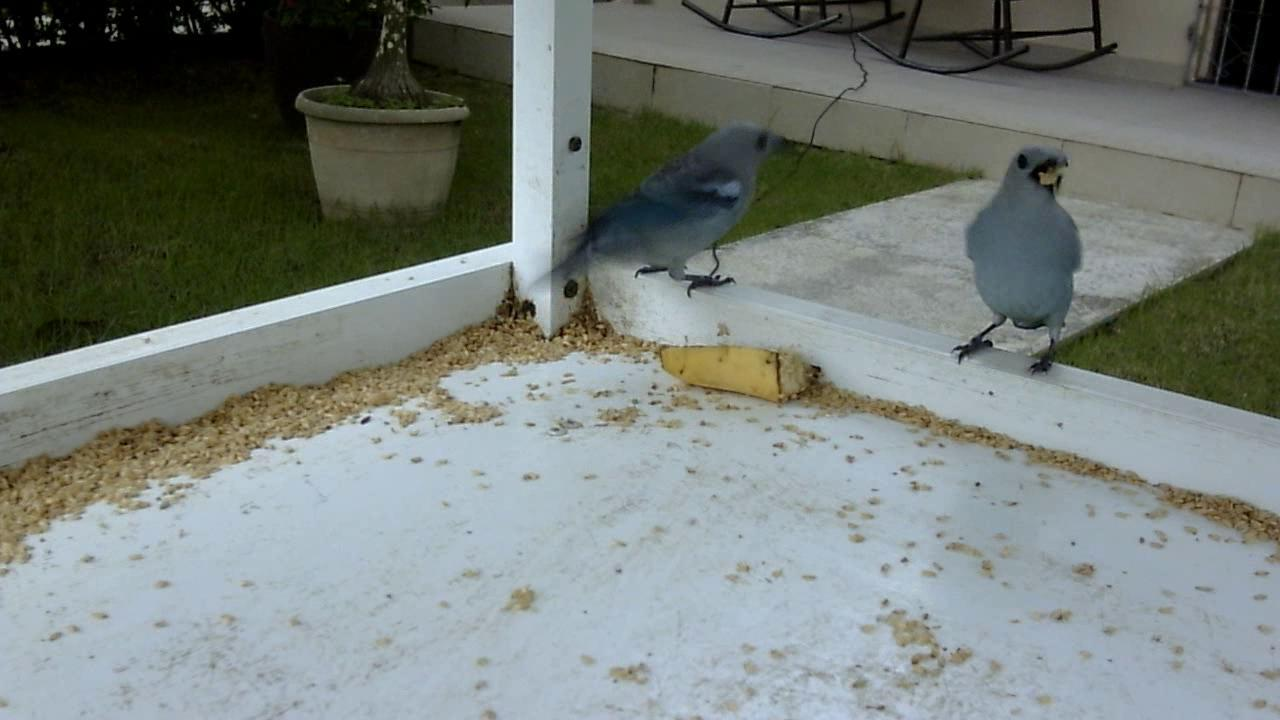sanhaco_da_amazonia: (521, 111, 794, 332), (947, 141, 1087, 378)
